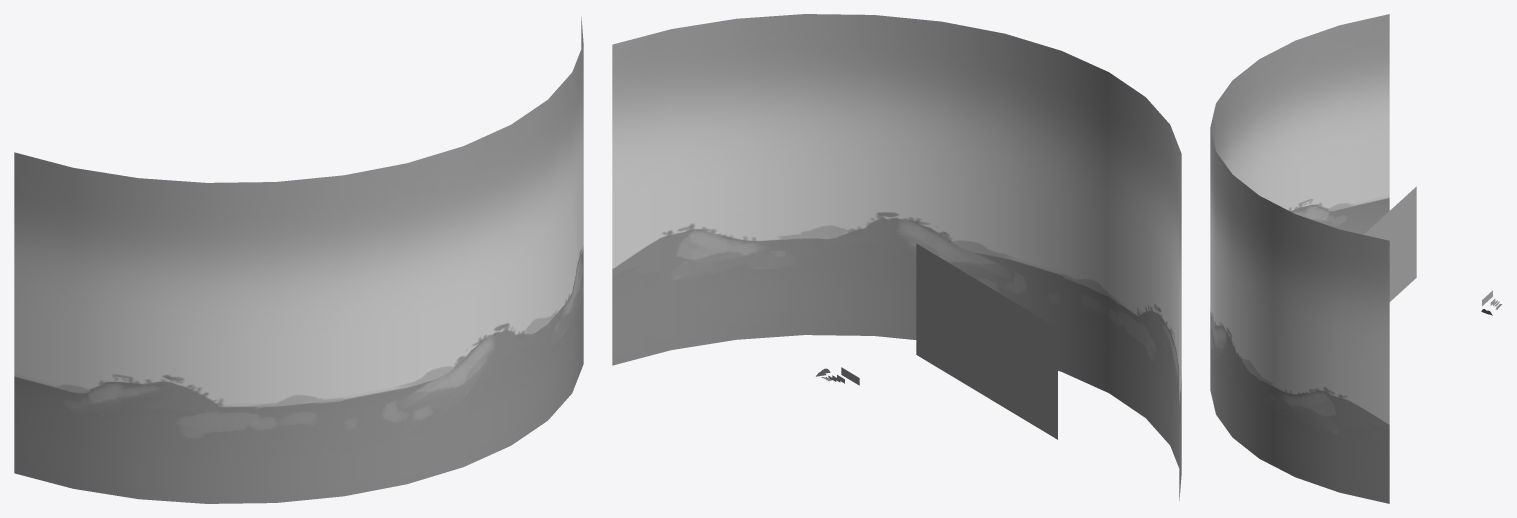
The model's file is page03_gamelevel_01.fbx.
3 renders of one model, left to right at view 1: azimuth 30°, elevation 25°; view 2: azimuth 150°, elevation 25°; view 3: azimuth 270°, elevation 25°, orthographic. The views are drawn at different scales.
Visible parts, largest first — view 1: sky_cylinder; view 2: sky_cylinder, pPlane10; view 3: sky_cylinder, pPlane10.
Boxes of the visible parts, x1,y1,x2,y2 form: sky_cylinder: [14, 17, 583, 503]; sky_cylinder: [612, 14, 1181, 500]; pPlane10: [916, 243, 1057, 439]; sky_cylinder: [1210, 14, 1389, 503]; pPlane10: [1363, 186, 1416, 301].
Size of the model in its own units: 908 by 491 by 494.
